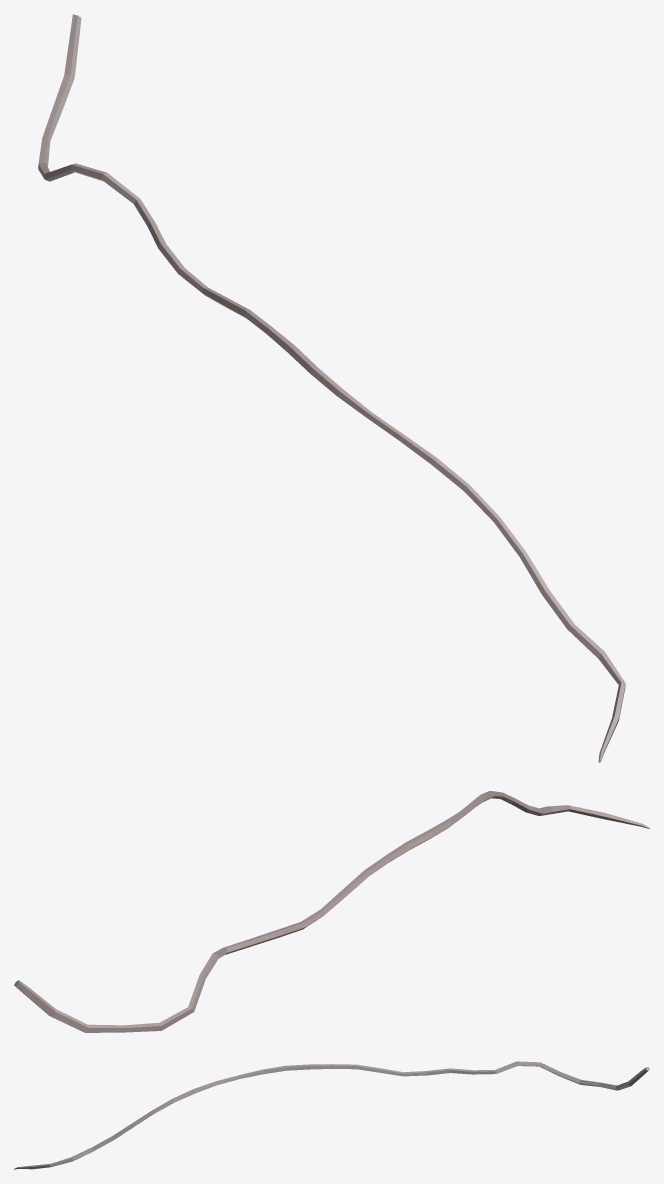
The model's file is Ureter_L_LP.glb.
3 views of the same model, one above another, from view 1: azimuth 30°, elevation 25°; view 2: azimuth 150°, elevation 25°; view 3: azimuth 270°, elevation 25° (orthographic). The views are drawn at different scales.
Visible parts, largest first — view 1: Ureter_L_LP; view 2: Ureter_L_LP; view 3: Ureter_L_LP.
Part boxes in pixels (x1=…): Ureter_L_LP: x1=38, y1=14, x2=625, y2=762; Ureter_L_LP: x1=14, y1=791, x2=649, y2=1032; Ureter_L_LP: x1=14, y1=1061, x2=649, y2=1169.
Bounding box in the file's own units: 0.000536 × 0.00101 × 0.00449.
Materials: 1 (1 with a texture image).
